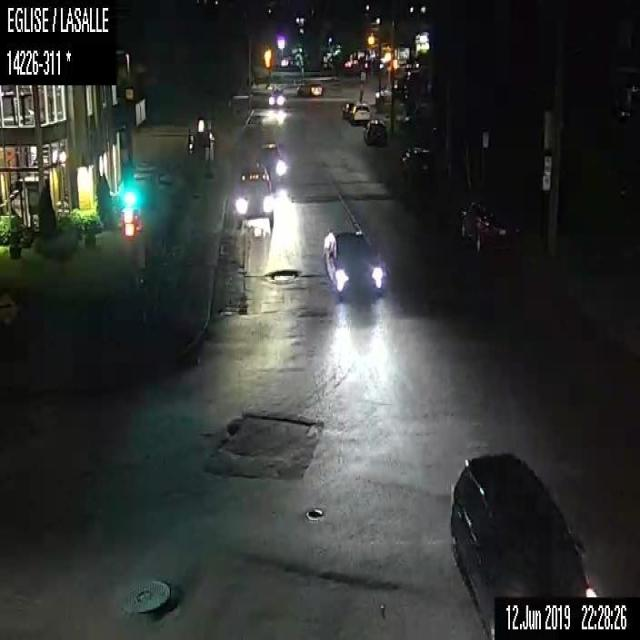vehicle: (449, 449, 596, 639), (454, 190, 524, 258), (322, 221, 384, 296), (231, 162, 273, 230), (397, 145, 440, 188), (254, 141, 287, 187), (187, 128, 215, 156), (364, 118, 387, 147), (349, 100, 370, 124), (295, 80, 324, 97), (266, 89, 286, 107), (340, 98, 352, 122)
